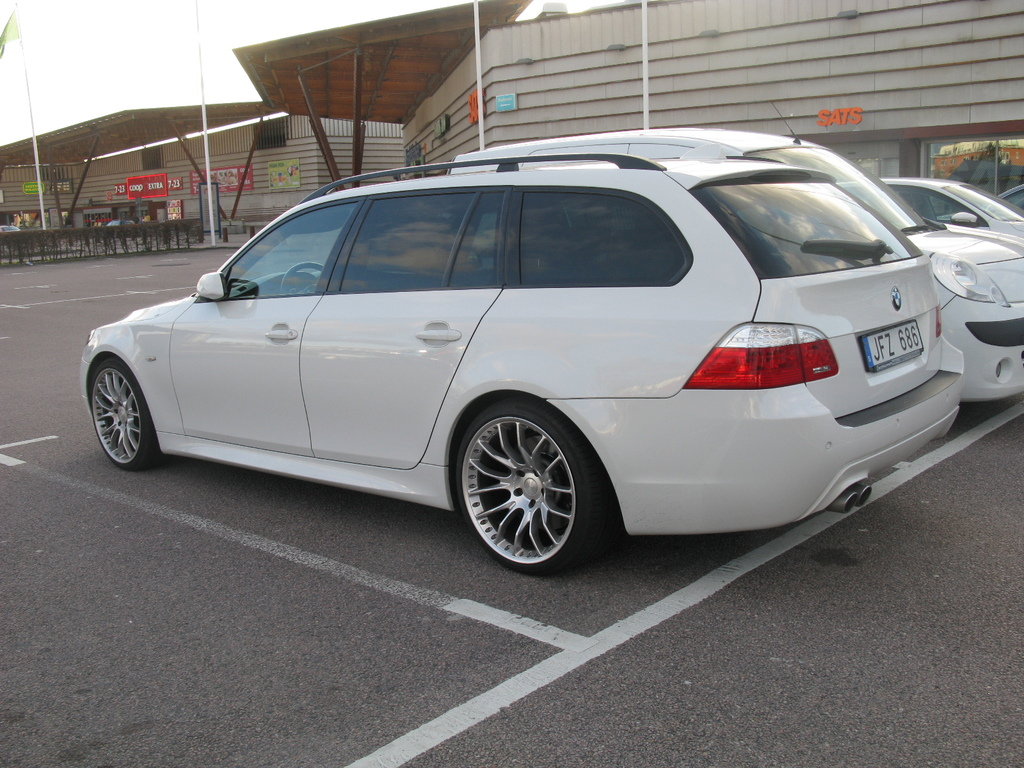license plate: (855, 334, 922, 371)
